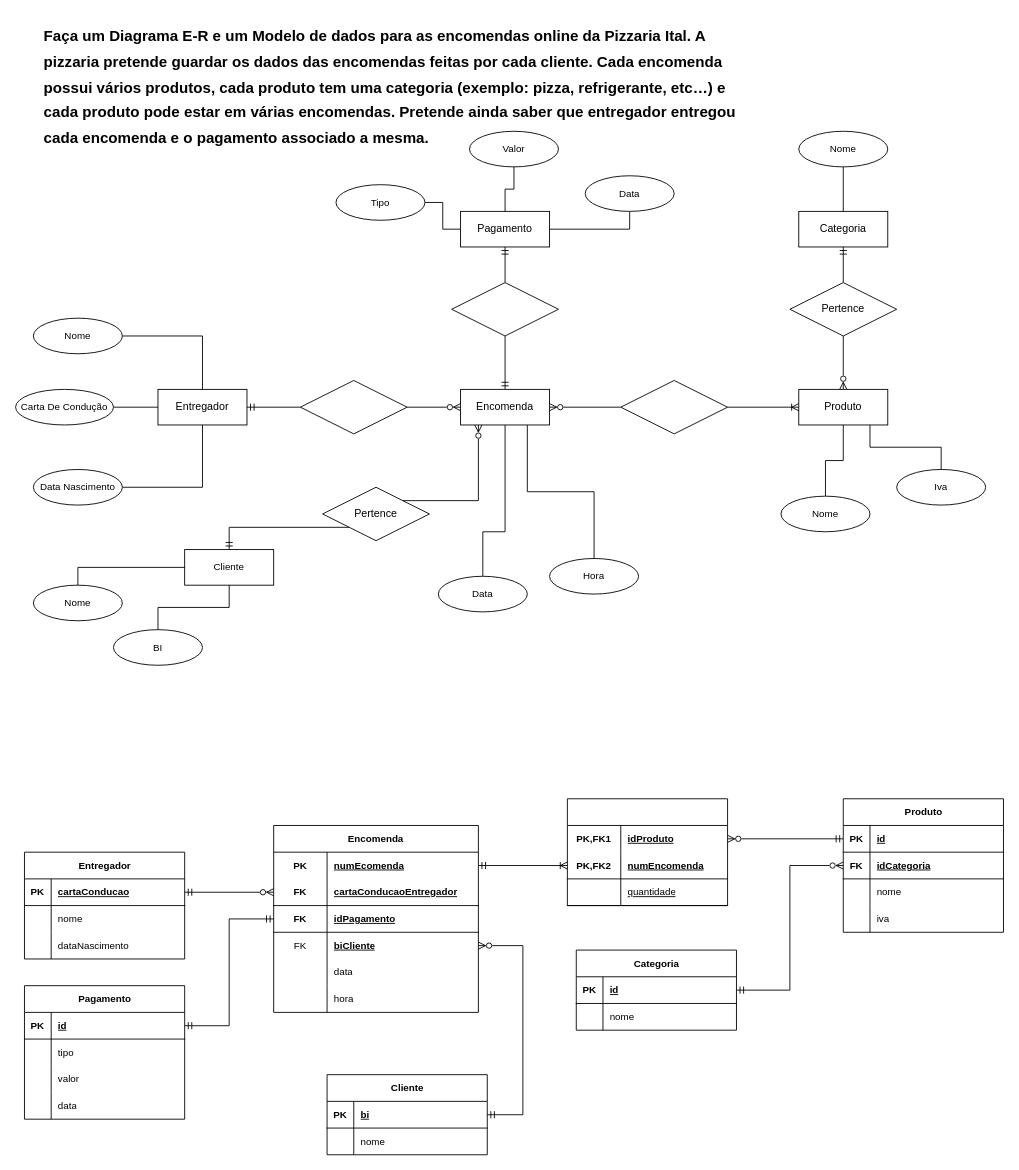
This 1019x1170 diagram has some shape labels left out. Each missing label, with the box of its shape:
Contem: (620, 380, 728, 434)
EncomendaProduto: (566, 798, 728, 906)
entregue: (299, 380, 407, 434)
Teve: (451, 282, 558, 336)
